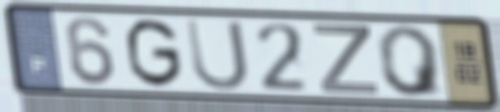2: (253, 20, 310, 93)
6: (62, 14, 117, 88)
G: (124, 16, 186, 90)
Q: (374, 24, 448, 100)
U: (182, 16, 253, 94)
Z: (310, 21, 383, 98)
